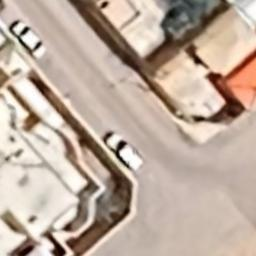sedan: (10, 21, 48, 59)
van: (106, 130, 147, 172)
